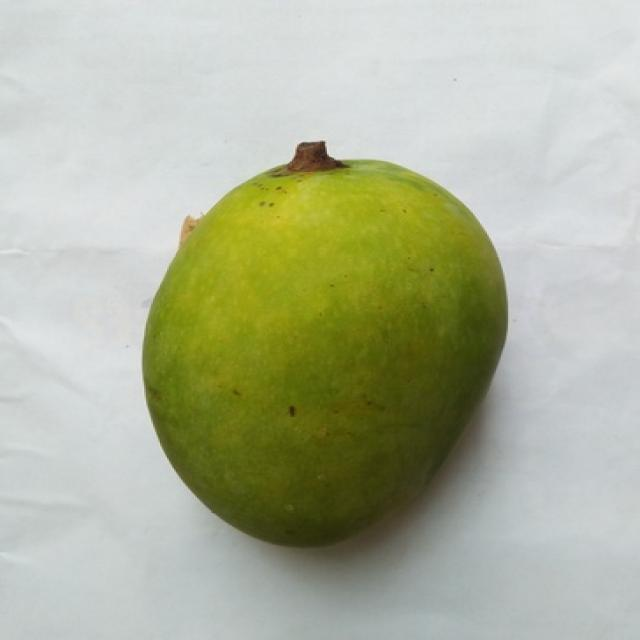Mango: (142, 160, 505, 545)
